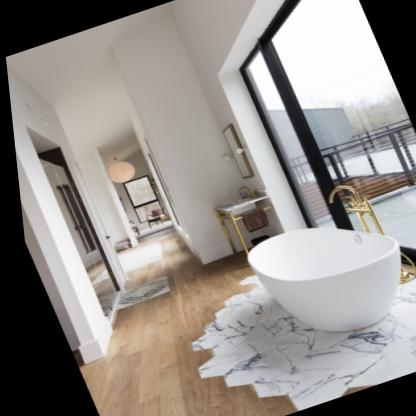Wooden floor: (73, 235, 289, 416)
